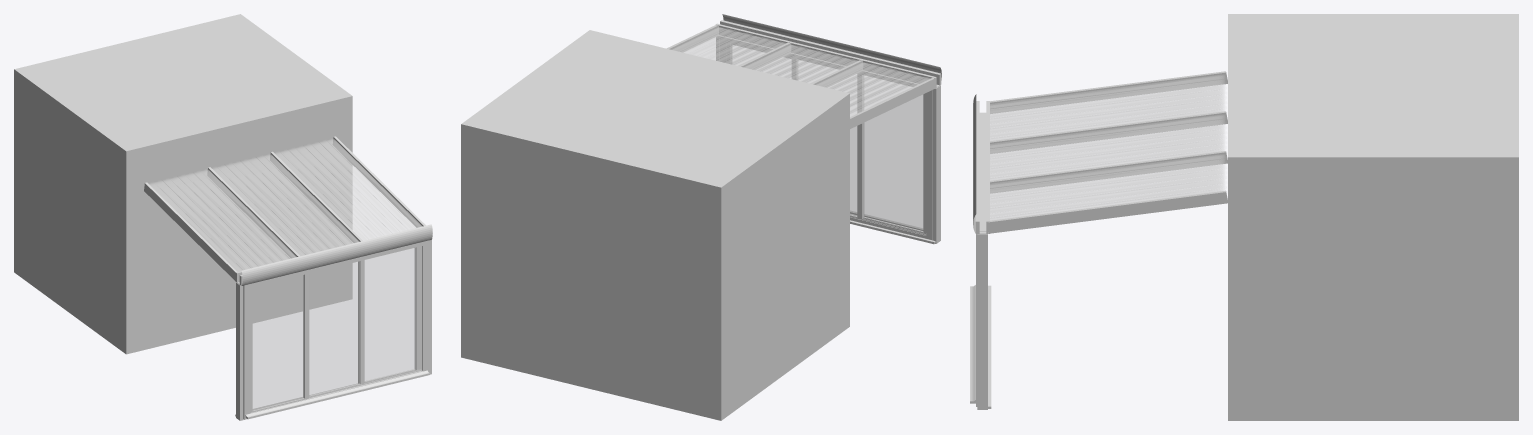
Rendered from BasicVeranda8.glb.
3 views of the same model, side by side, from view 1: azimuth 30°, elevation 25°; view 2: azimuth 150°, elevation 25°; view 3: azimuth 270°, elevation 25° (orthographic). The views are drawn at different scales.
Visible parts, largest first — view 1: Huis, WindowPanelLeft, WindowPanelMid, WindowPanelRight, PolyKanaalplaat03, PolyKanaalplaat01, PolyKanaalplaat02, WindowFrame, GootProfiel, EindLiggerLinks, Legs01Left, Ligger01 (+3 smaller); view 2: Huis, WindowPanelLeft, GootProfiel, PolyKanaalplaat03, WindowFrame, PolyKanaalplaat01, PolyKanaalplaat02, WindowPanelMid, Legs01Left, EindLiggerLinks, WindowPanelRight, EindLiggerRechts (+2 smaller); view 3: Huis, PolyKanaalplaat03, PolyKanaalplaat01, PolyKanaalplaat02, EindLiggerRechts, Ligger02, EindLiggerLinks, Ligger01, WindowFrame, Legs01Right, GootProfiel.
Part boxes in pixels (bbox=[...]): Huis: bbox=[14, 14, 352, 354]; WindowPanelLeft: bbox=[250, 273, 309, 412]; WindowPanelMid: bbox=[303, 260, 364, 397]; WindowPanelRight: bbox=[358, 246, 419, 383]; PolyKanaalplaat03: bbox=[149, 169, 296, 271]; PolyKanaalplaat01: bbox=[275, 139, 421, 240]; PolyKanaalplaat02: bbox=[212, 154, 359, 255]; WindowFrame: bbox=[235, 240, 429, 419]; GootProfiel: bbox=[236, 224, 432, 285]; EindLiggerLinks: bbox=[144, 182, 237, 281]; Legs01Left: bbox=[236, 282, 243, 420]; Ligger01: bbox=[270, 151, 362, 242]; Huis: bbox=[461, 30, 849, 420]; WindowPanelLeft: bbox=[863, 75, 926, 233]; GootProfiel: bbox=[716, 14, 941, 88]; PolyKanaalplaat03: bbox=[816, 62, 930, 116]; WindowFrame: bbox=[720, 37, 935, 244]; PolyKanaalplaat01: bbox=[672, 27, 785, 65]; PolyKanaalplaat02: bbox=[744, 45, 857, 83]; WindowPanelMid: bbox=[797, 59, 863, 218]; Legs01Left: bbox=[932, 85, 940, 243]; EindLiggerLinks: bbox=[850, 78, 935, 128]; WindowPanelRight: bbox=[726, 42, 797, 80]; EindLiggerRechts: bbox=[666, 25, 718, 52]; Huis: bbox=[1228, 14, 1518, 420]; PolyKanaalplaat03: bbox=[990, 75, 1225, 141]; PolyKanaalplaat01: bbox=[990, 154, 1225, 220]; PolyKanaalplaat02: bbox=[990, 115, 1225, 180]; EindLiggerRechts: bbox=[986, 190, 1227, 233]; Ligger02: bbox=[990, 111, 1227, 153]; EindLiggerLinks: bbox=[990, 71, 1227, 113]; Ligger01: bbox=[990, 151, 1227, 193]; WindowFrame: bbox=[970, 114, 991, 408]; Legs01Right: bbox=[977, 234, 987, 409]; GootProfiel: bbox=[973, 94, 989, 233].
Size of the model in its own units: 35 by 30 by 56.62.
3 materials, 1 textured.
